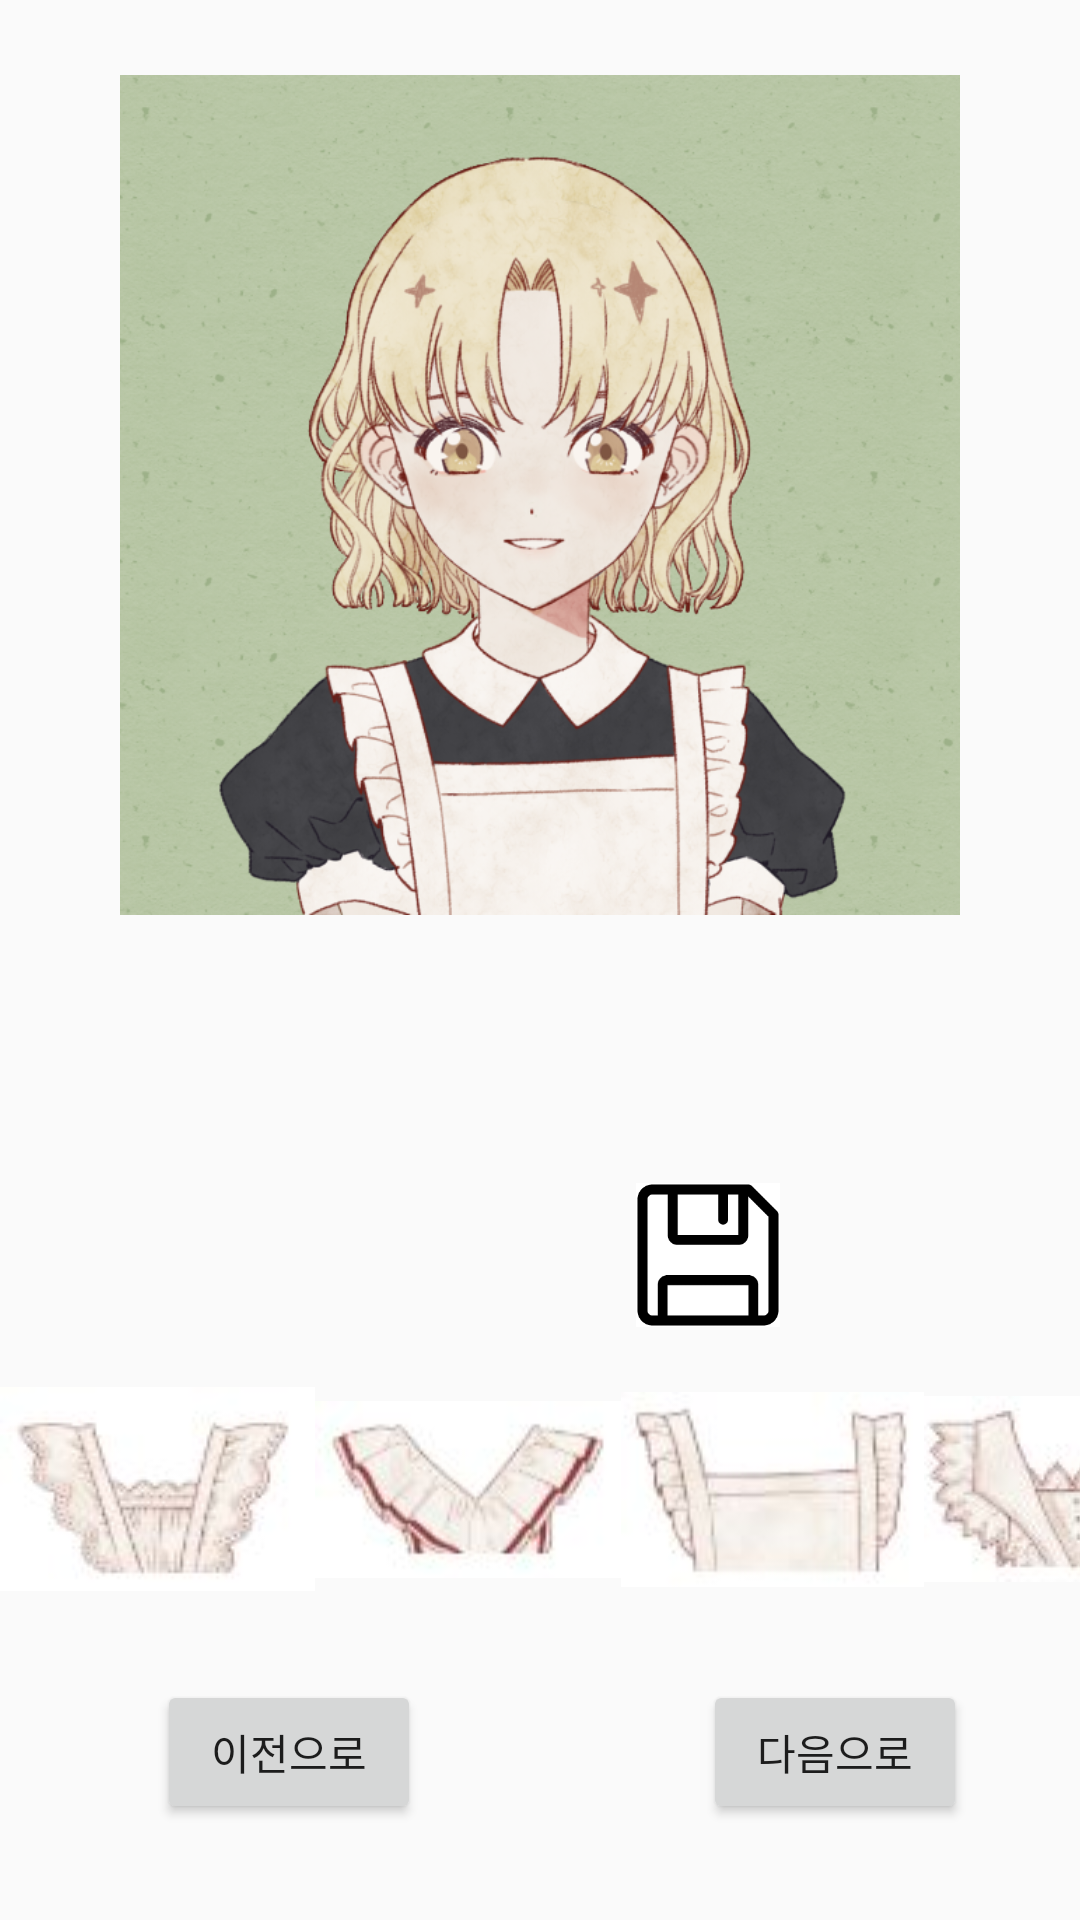

Point at icon controls on the screen. Image size 1080w x 1920h, points as (x,y).
save: (708,1255)
